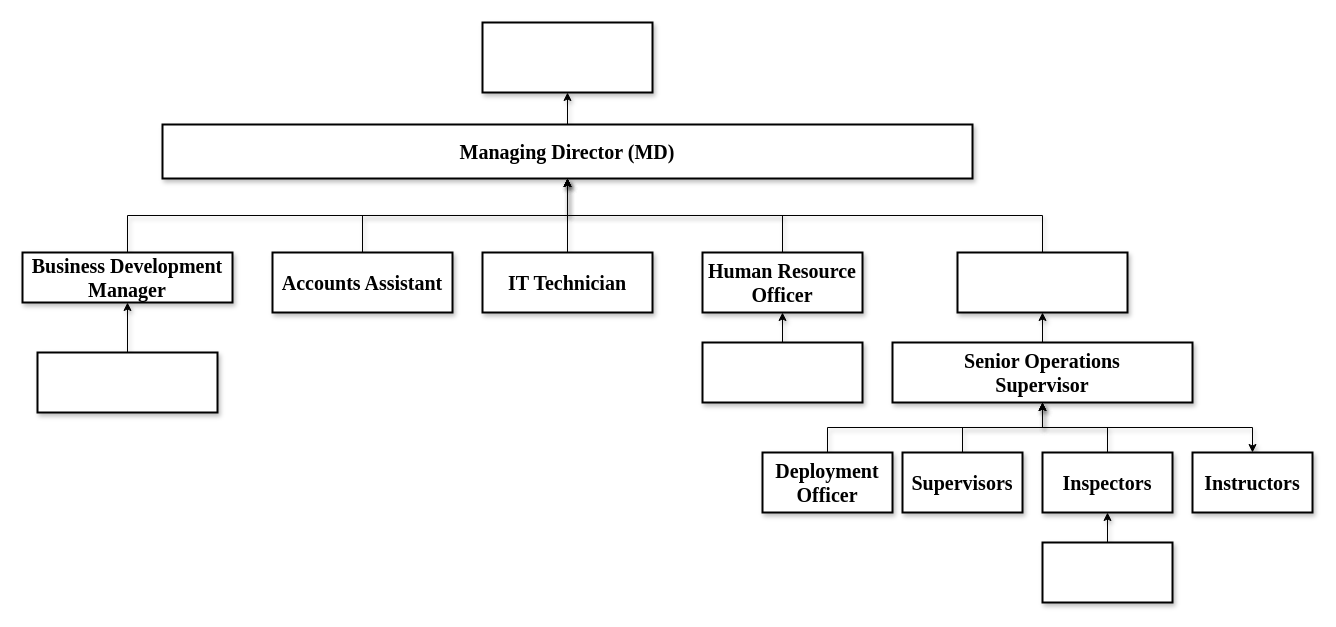
The diagram is 1336 pixels wide and 627 high, and some of its shapes have lost their labels. Each missing label, with the centre of its shape:
Board of Directors: [568,58]
Office Administrator: [783,373]
Operations Manager: [1043,283]
Sales Executive: [128,383]
Security guards: [1108,573]
